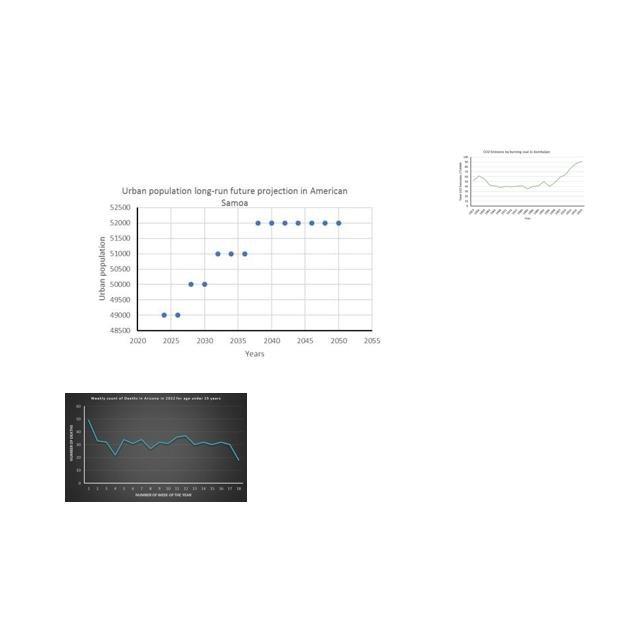Graph: (72, 180, 385, 368), (65, 393, 247, 502), (456, 148, 587, 222)
